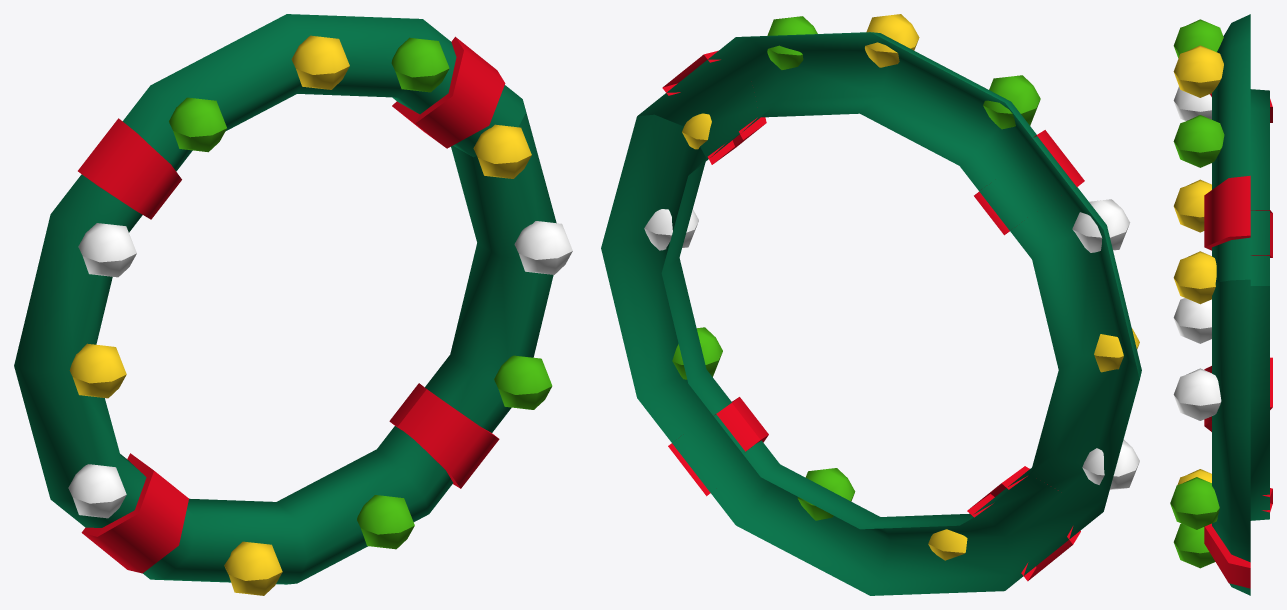
Rendered from Christmas_wreath_1.fbx.
3 renders of one model, left to right at view 1: azimuth 30°, elevation 25°; view 2: azimuth 150°, elevation 25°; view 3: azimuth 270°, elevation 25°, orthographic. The views are drawn at different scales.
Visible parts, largest first — view 1: Christmas_wreath_1; view 2: Christmas_wreath_1; view 3: Christmas_wreath_1.
Boxes of the visible parts, x1,y1,x2,y2 form: Christmas_wreath_1: [14, 14, 572, 595]; Christmas_wreath_1: [601, 14, 1141, 595]; Christmas_wreath_1: [1170, 14, 1272, 595].
Bounding box in the file's own units: 66.36 × 66.36 × 11.67.
